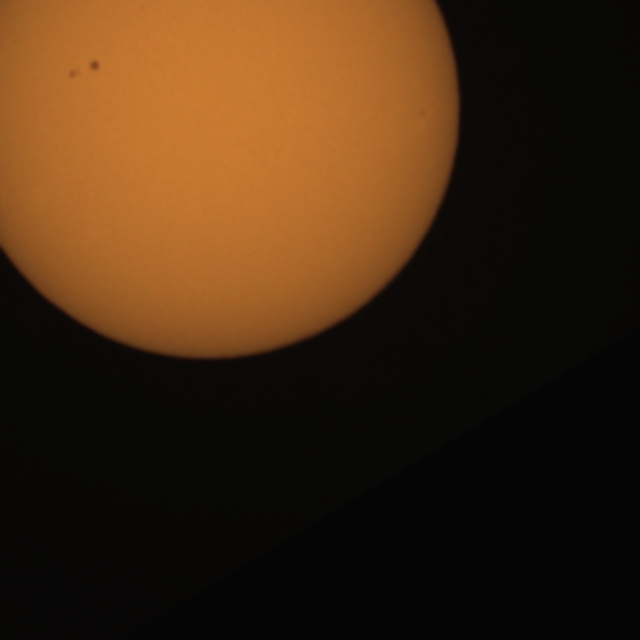sunspot: (66, 58, 102, 81), (88, 58, 102, 74)
